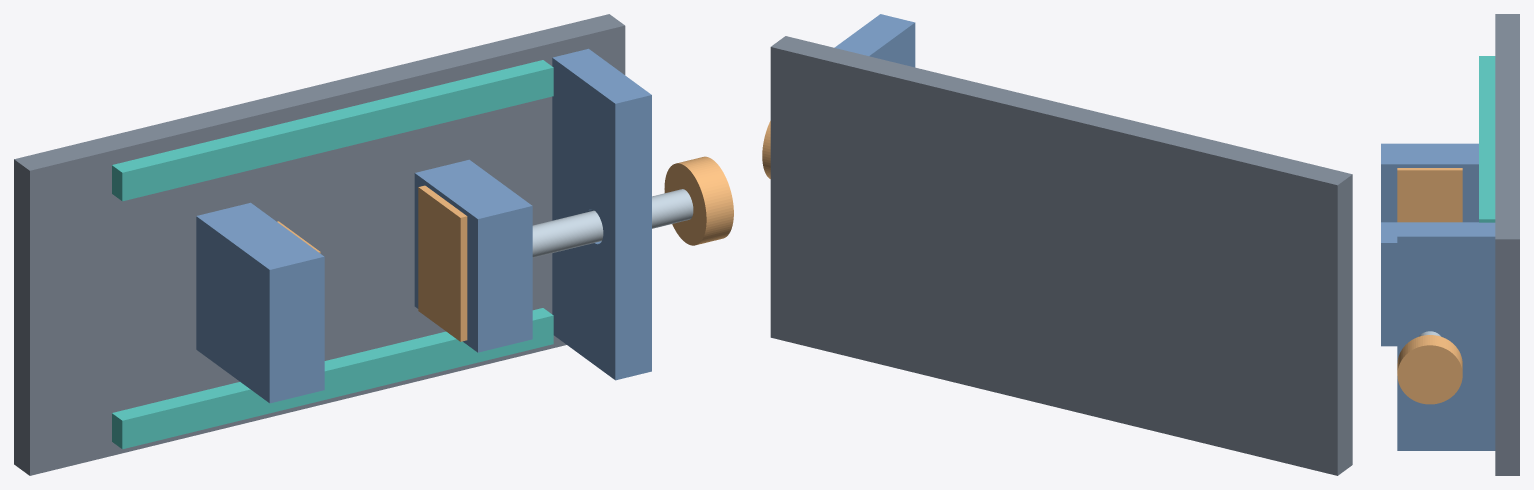
The model's file is assembly.glb.
3 renders of one model, left to right at view 1: azimuth 30°, elevation 25°; view 2: azimuth 150°, elevation 25°; view 3: azimuth 270°, elevation 25°, orthographic. The views are drawn at different scales.
Visible parts, largest first — view 1: base, actuator_support, fixed_jaw, rail_right, rail_left, moving_jaw, moving_pad, knob, rod; view 2: base, actuator_support; view 3: actuator_support, base, fixed_jaw, knob, fixed_pad, rail_right, moving_jaw.
Boxes of the visible parts, <box> form: base: <box>14,14,625,475</box>; actuator_support: <box>552,48,651,380</box>; fixed_jaw: <box>196,202,324,403</box>; rail_right: <box>112,60,553,201</box>; rail_left: <box>112,308,553,449</box>; moving_jaw: <box>414,159,532,352</box>; moving_pad: <box>418,185,467,341</box>; knob: <box>664,156,733,245</box>; rod: <box>532,189,693,257</box>; base: <box>770,36,1352,475</box>; actuator_support: <box>834,14,915,67</box>; actuator_support: <box>1397,222,1495,450</box>; base: <box>1495,14,1519,475</box>; fixed_jaw: <box>1381,143,1478,222</box>; knob: <box>1397,335,1462,404</box>; fixed_pad: <box>1397,168,1462,222</box>; rail_right: <box>1479,56,1495,222</box>; moving_jaw: <box>1381,222,1478,346</box>.
Bounding box in the file's own units: 0.134 × 0.061 × 0.0324.
